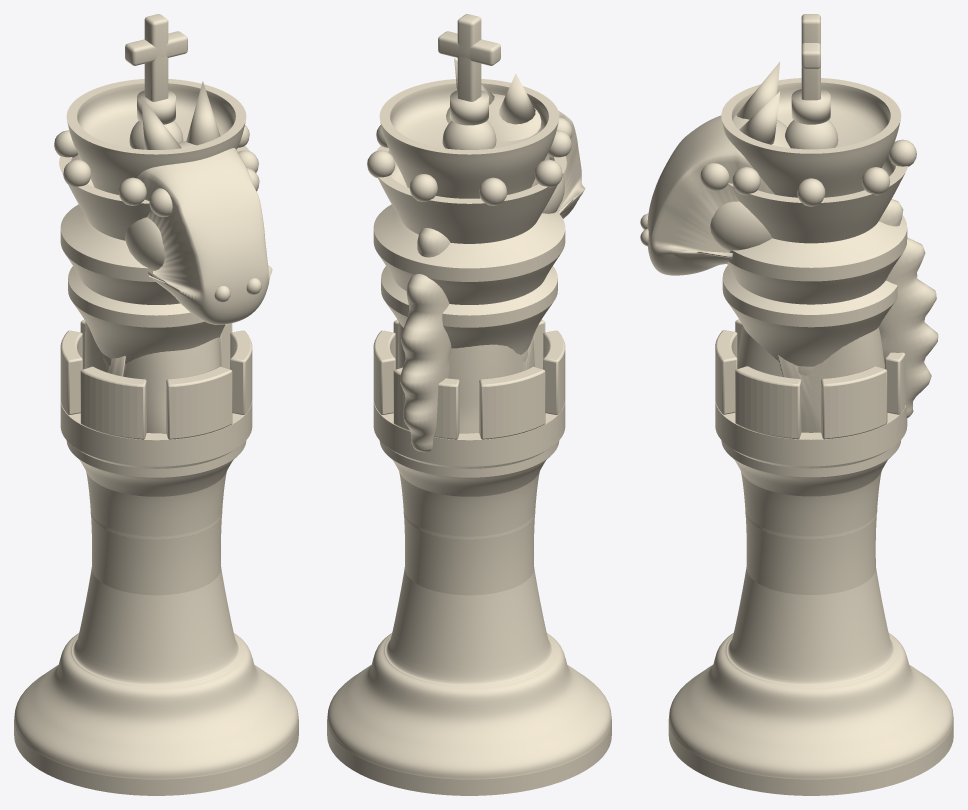
The model's file is pieces.glb.
3 renders of one model, left to right at view 1: azimuth 30°, elevation 25°; view 2: azimuth 150°, elevation 25°; view 3: azimuth 270°, elevation 25°, orthographic.
Visible parts, largest first — view 1: king, rook, knight, queen; view 2: king, rook, knight, queen; view 3: king, knight, rook, queen.
Boxes of the visible parts, x1,y1,x2,y2 form: king: (14, 14, 298, 795); rook: (60, 319, 252, 595); knight: (66, 81, 272, 496); queen: (54, 121, 258, 363); king: (327, 14, 611, 795); rook: (373, 319, 565, 595); knight: (379, 58, 585, 496); queen: (367, 121, 571, 354); king: (668, 14, 953, 795); knight: (640, 61, 938, 496); rook: (715, 319, 907, 594); queen: (722, 120, 916, 366).
Bounding box in the file's own units: 0.38 × 1.06 × 0.418.
